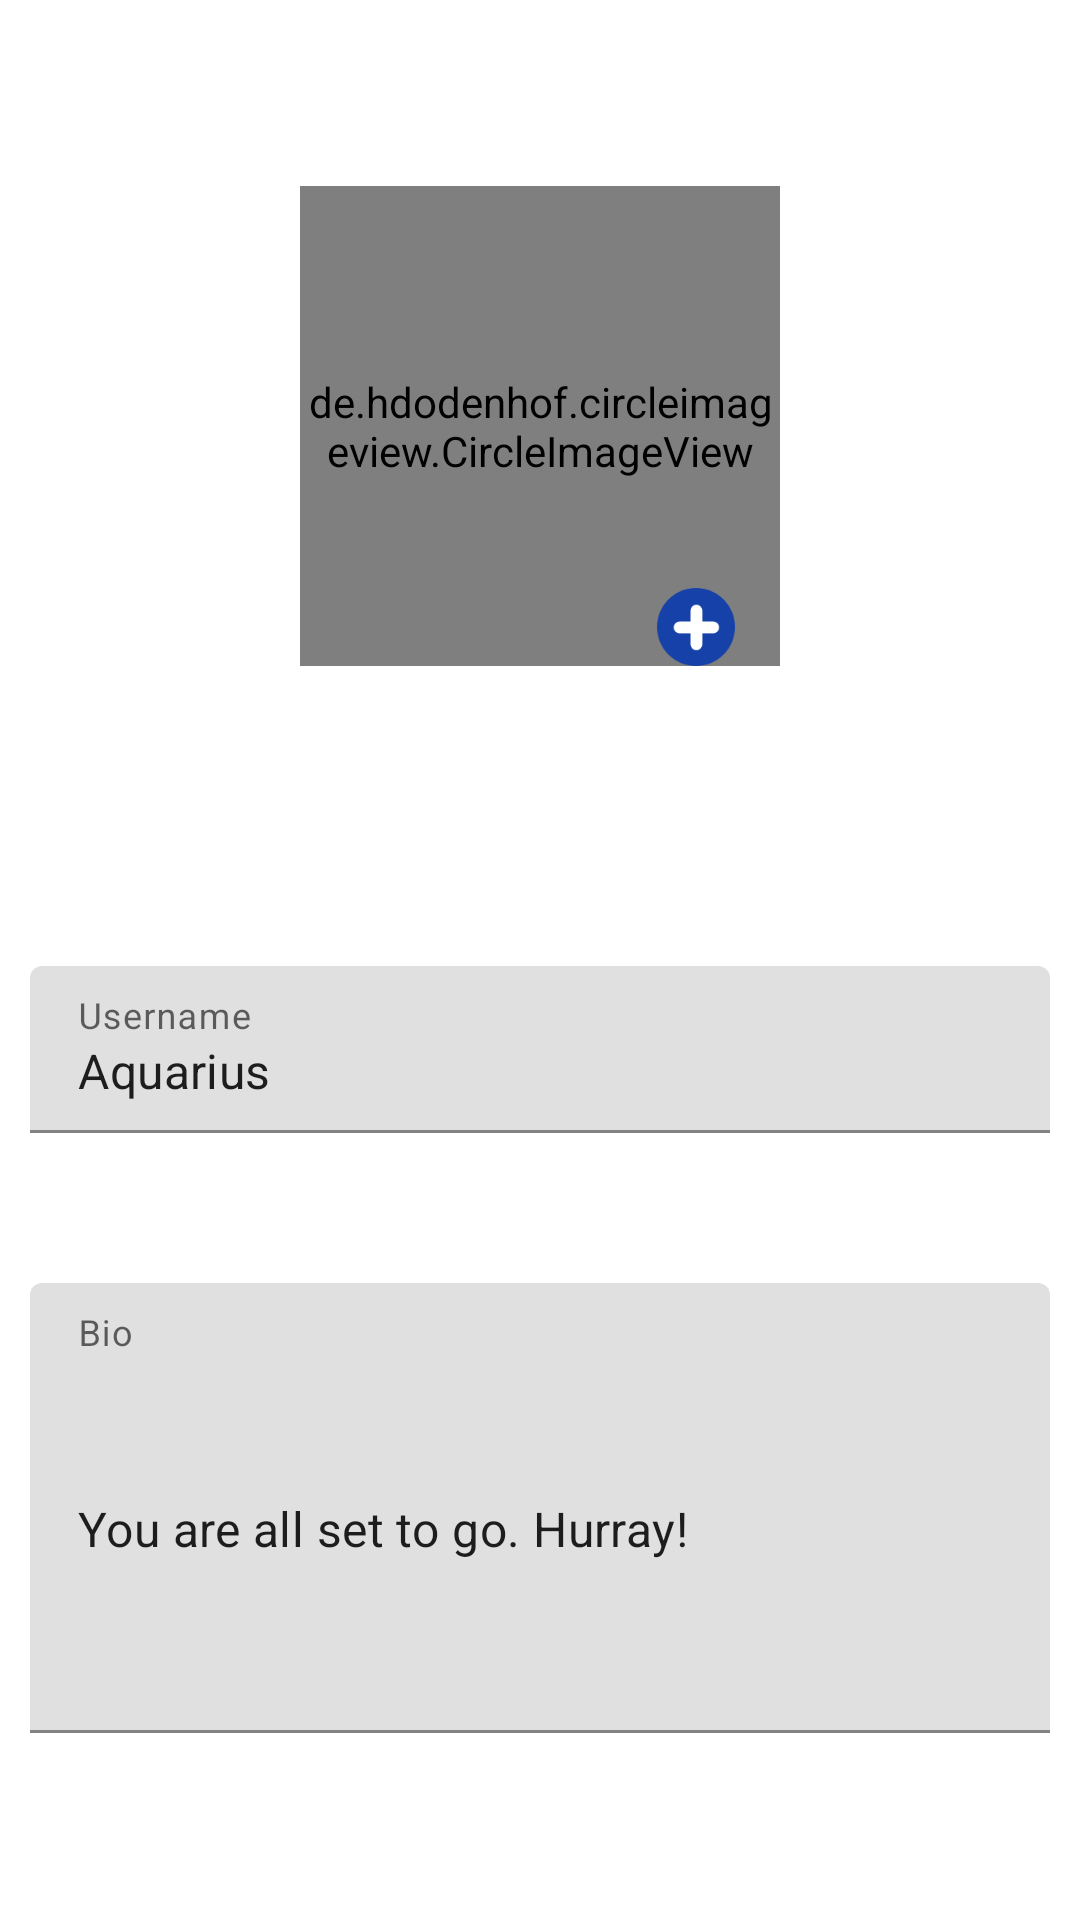

Screen size 1080px x 1920px. Icon name, then its box in pixels as (x1, y1, x2, y2):
add profile: (657, 588, 735, 666)
